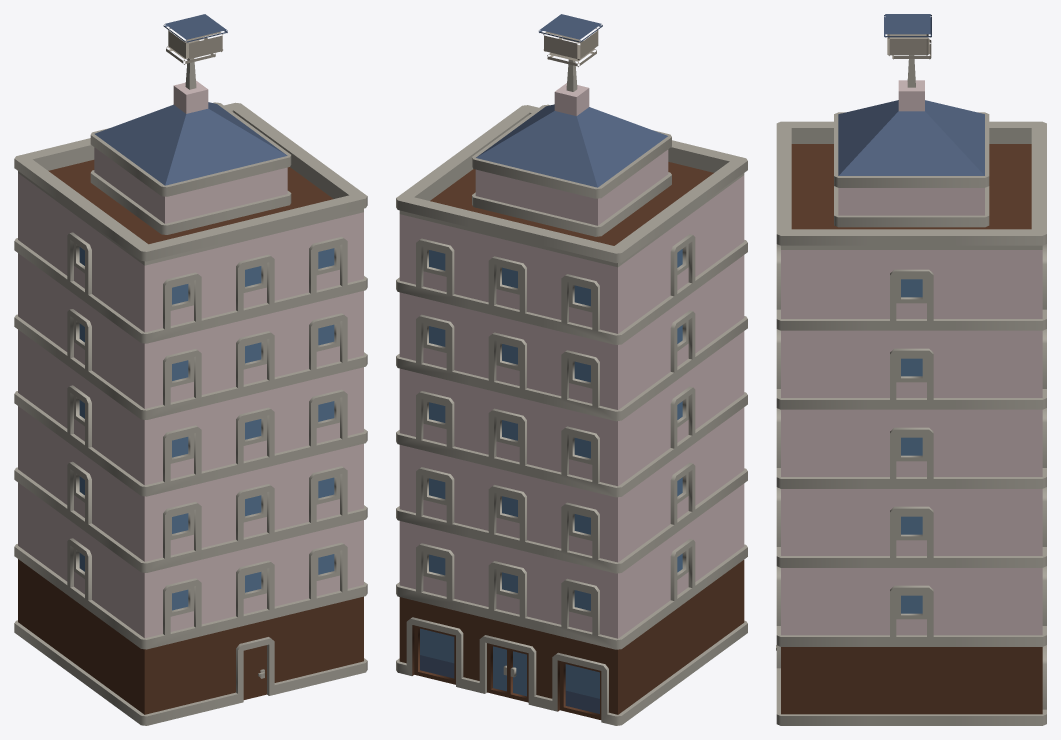
The model's file is office-b.glb.
The picture shows the model from 3 angles, left to right: view 1: azimuth 30°, elevation 25°; view 2: azimuth 150°, elevation 25°; view 3: azimuth 270°, elevation 25°; orthographic projection. The views are drawn at different scales.
Visible parts, largest first — view 1: office-b; view 2: office-b; view 3: office-b.
Boxes of the visible parts, left/top/right/bottom form: office-b: left=14, top=14, right=367, bottom=725; office-b: left=396, top=14, right=747, bottom=725; office-b: left=776, top=14, right=1046, bottom=725.
Size of the model in its own units: 0.8486 by 2.24 by 0.8499.
